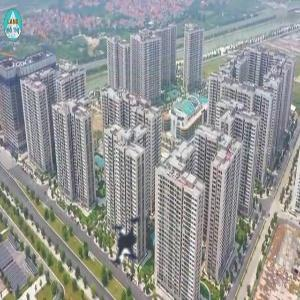drone: (77, 192, 180, 295)
